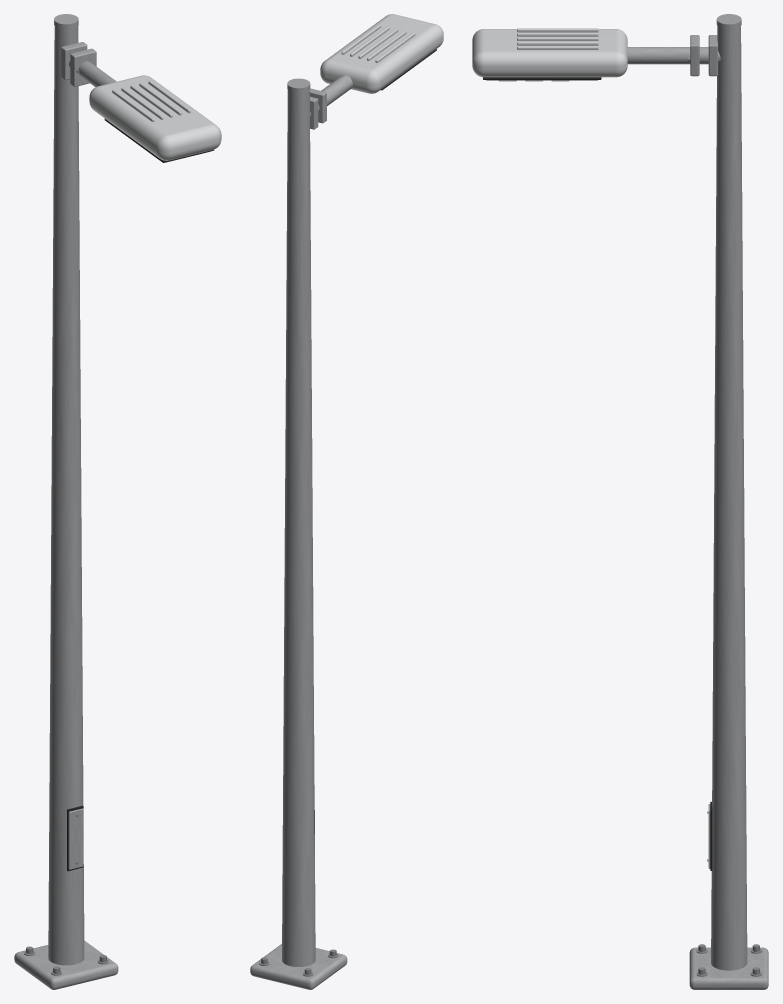
File: streetlight.glb
3 renders of one model, left to right at view 1: azimuth 30°, elevation 25°; view 2: azimuth 150°, elevation 25°; view 3: azimuth 270°, elevation 25°, orthographic. The views are drawn at different scales.
Visible parts, largest first — view 1: Tapered galvanized mast, LED luminaire body, Galvanized anchor foot, Service hatch cover, Arm root bracket.001, Horizontal outreach arm, Arm root bracket; view 2: Tapered galvanized mast, LED luminaire body, Galvanized anchor foot, Horizontal outreach arm; view 3: Tapered galvanized mast, LED luminaire body, Galvanized anchor foot, Horizontal outreach arm.
Part boxes in pixels (left/top/right/bottom): Tapered galvanized mast: left=48, top=26, right=84, bottom=965; LED luminaire body: left=89, top=75, right=221, bottom=160; Galvanized anchor foot: left=14, top=940, right=118, bottom=989; Service hatch cover: left=68, top=808, right=83, bottom=869; Arm root bracket.001: left=70, top=48, right=96, bottom=86; Horizontal outreach arm: left=69, top=60, right=116, bottom=86; Arm root bracket: left=61, top=42, right=87, bottom=80; Tapered galvanized mast: left=282, top=90, right=315, bottom=966; LED luminaire body: left=320, top=14, right=443, bottom=93; Galvanized anchor foot: left=250, top=944, right=347, bottom=989; Horizontal outreach arm: left=310, top=75, right=352, bottom=117; Tapered galvanized mast: left=711, top=26, right=747, bottom=970; LED luminaire body: left=472, top=29, right=627, bottom=77; Galvanized anchor foot: left=689, top=947, right=768, bottom=989; Horizontal outreach arm: left=627, top=47, right=720, bottom=64.
Bounding box in the file's own units: 0.3 × 4 × 1.12.
5 materials, 1 textured.
